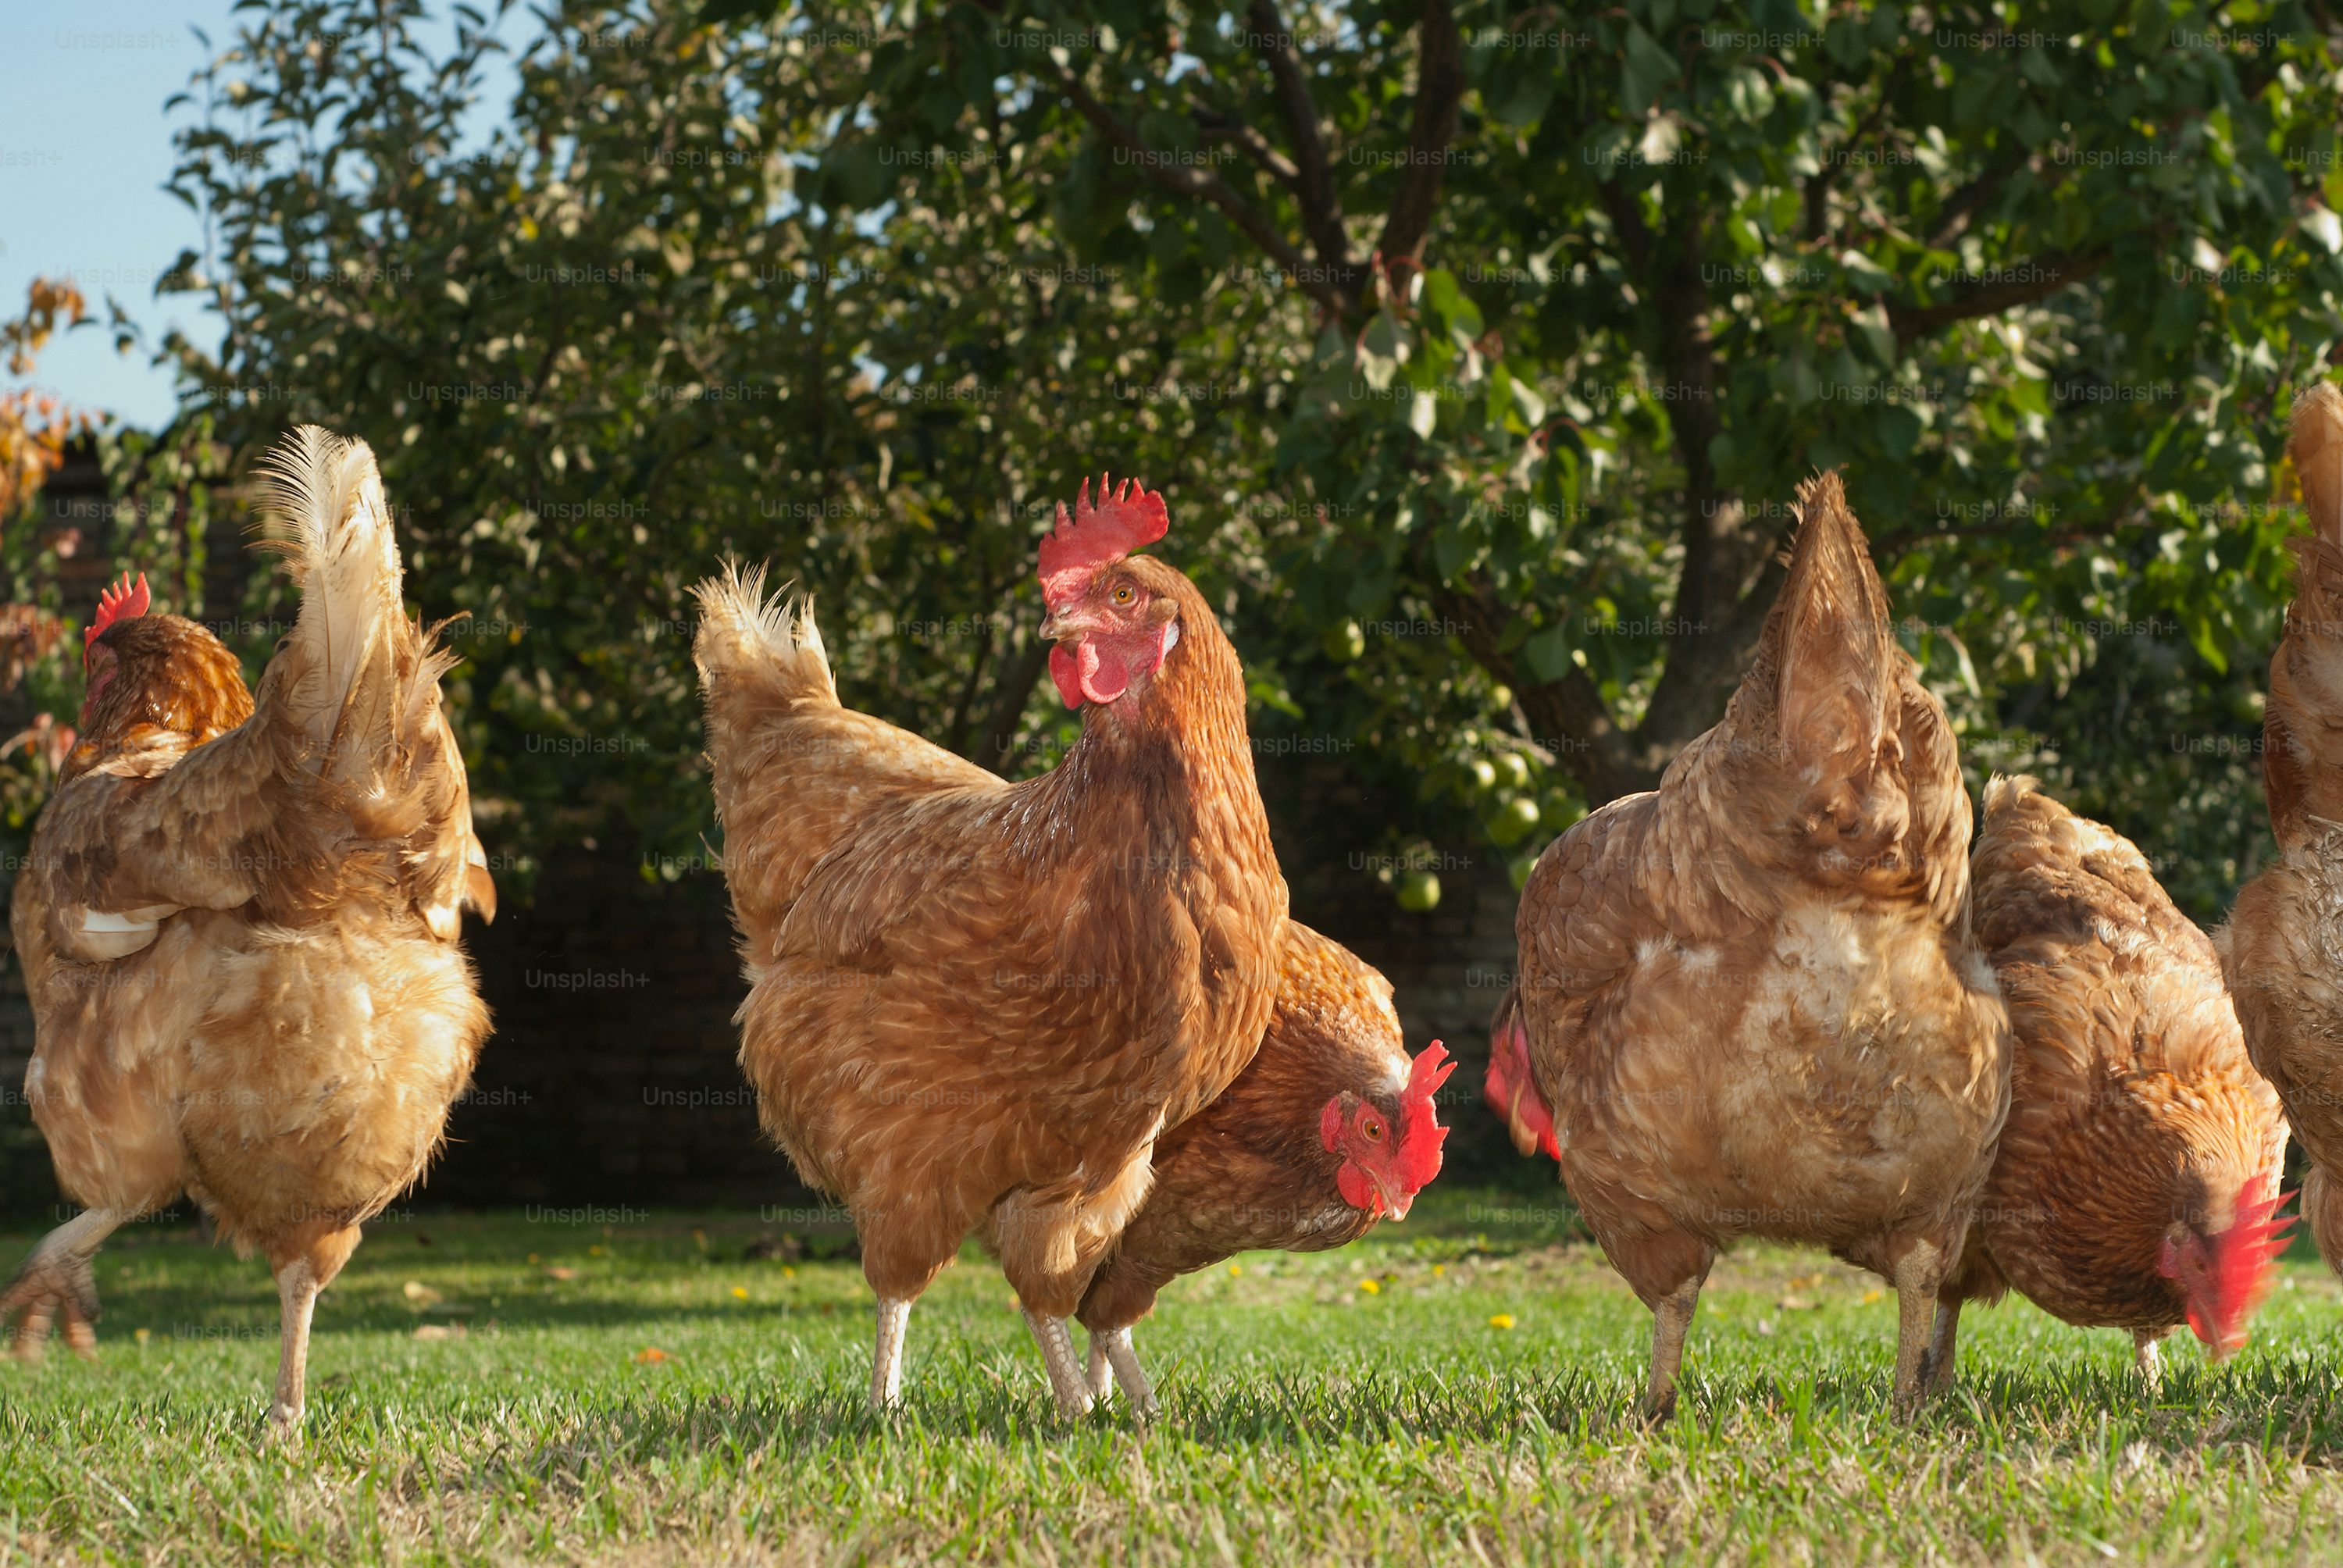Healthy: (670, 464, 1304, 1435), (1473, 444, 2033, 1475), (9, 394, 509, 1463), (1890, 737, 2320, 1398), (1293, 982, 1461, 1263)
